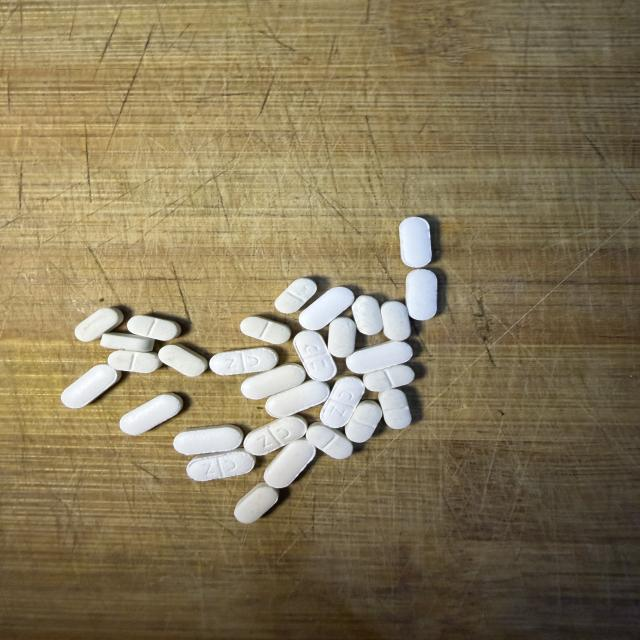pill: (120, 393, 183, 435), (61, 364, 121, 408), (244, 415, 307, 455), (264, 440, 315, 488), (299, 287, 354, 330), (265, 381, 329, 417), (320, 376, 364, 428), (241, 364, 306, 399), (187, 449, 255, 481), (293, 331, 336, 381), (174, 425, 244, 455), (346, 342, 412, 373), (210, 348, 278, 375), (234, 483, 278, 524), (307, 422, 353, 459), (399, 217, 431, 267), (75, 308, 123, 341), (406, 269, 437, 320), (345, 401, 382, 442), (159, 345, 207, 376), (275, 278, 316, 313), (240, 317, 291, 344), (363, 365, 414, 392), (127, 316, 181, 341), (379, 389, 411, 429), (108, 350, 161, 373), (352, 296, 382, 335), (381, 301, 411, 340), (328, 317, 355, 357), (100, 333, 154, 352)
